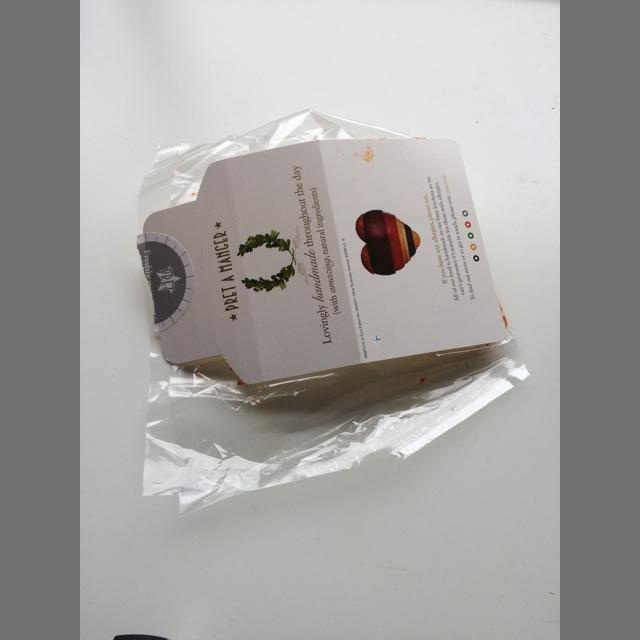litter: (136, 109, 530, 519), (143, 138, 506, 385)
